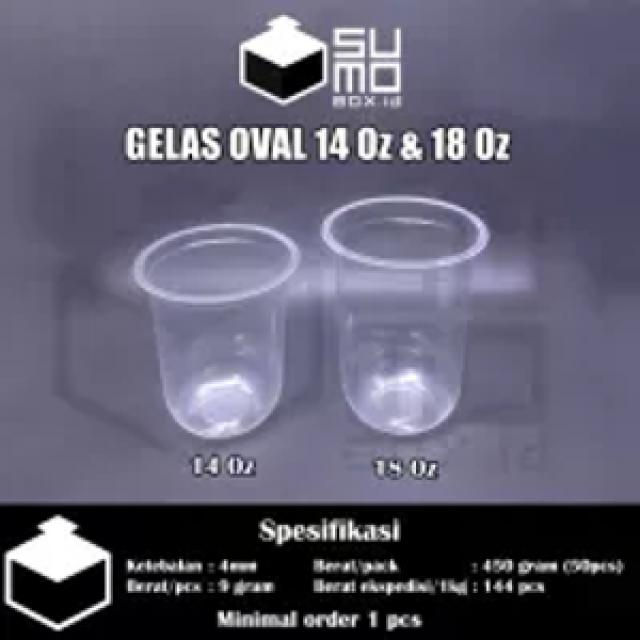plastic cup: (318, 190, 495, 448), (128, 213, 307, 446)
